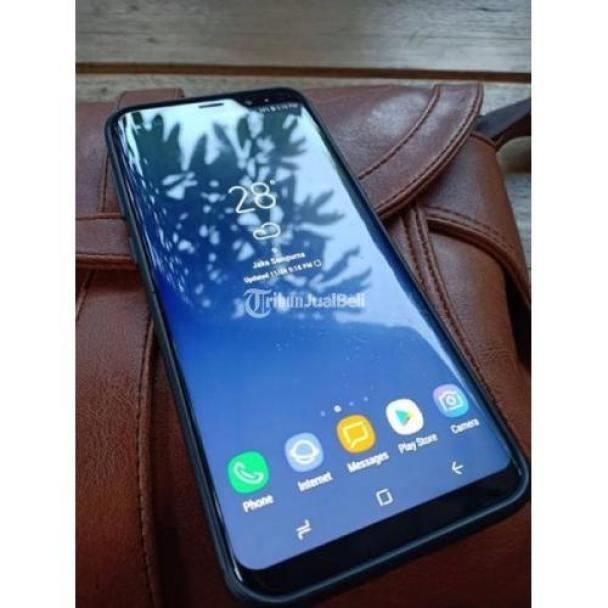Handphone: (103, 81, 532, 604)
